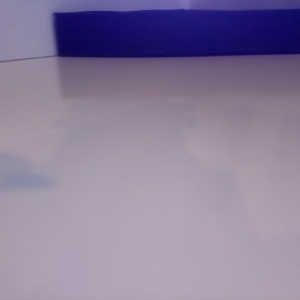zone: (53, 9, 300, 58)
